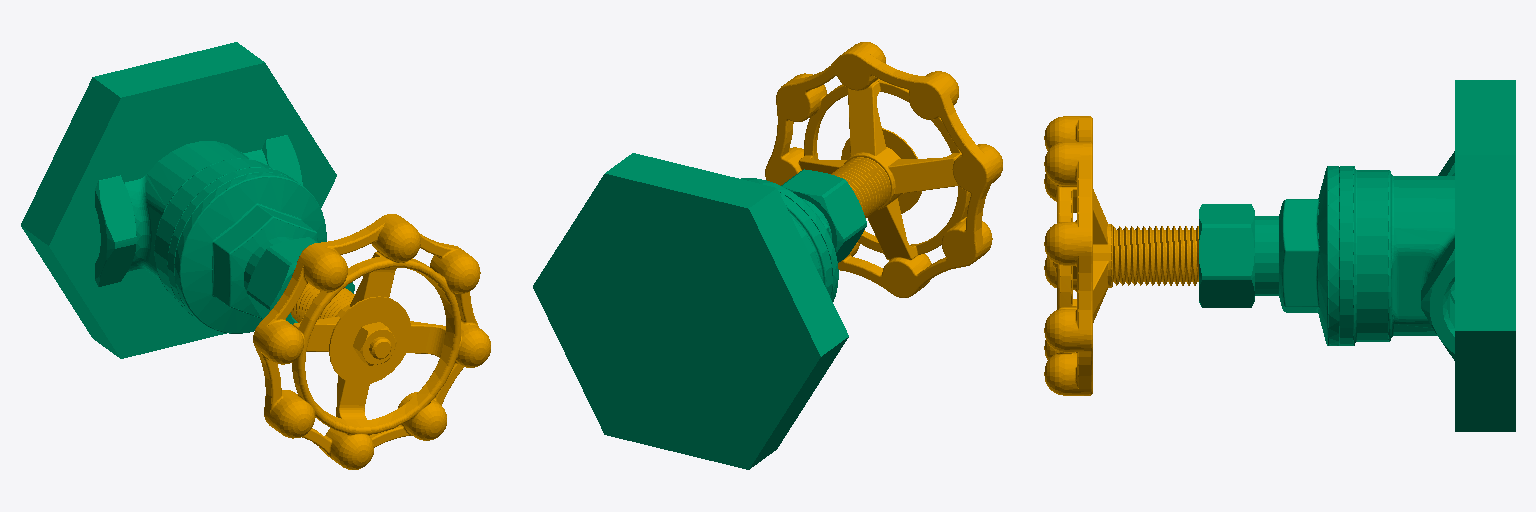
URDF robot description (Small_Valve):
<?xml version='1.0' encoding='utf-8'?>
<robot name="Small_Valve">
  <joint name="PrismaticJoint" type="prismatic">
    <origin xyz="-0. -0. 0." rpy="-0.000259 0. 0. " />
    <parent link="pivot_registro" />
    <child link="eixo_trans" />
    <axis xyz="0. 0. 1." />
    <limit lower="-0.02" upper="0.015" effort="100.0" velocity="1.0" />
  </joint>
  <joint name="RevoluteJoint" type="continuous">
    <origin xyz="0. -0. 0." rpy="1.5707964 0. 0. " />
    <parent link="valvula_gaveta" />
    <child link="pivot_registro" />
    <axis xyz="0. 0. 1." />
  </joint>
  <link name="eixo_trans">
    <inertial><origin xyz="0.000000 0.000000 0.101700" rpy="0 0 0" /><mass value="0.0050" /><inertia ixx="1e-06" ixy="0" ixz="0" iyy="1e-06" iyz="0" izz="1e-06" /></inertial><visual>
      <origin xyz="0. 0.0000187 -0.0723285" rpy="0.000259 0. 0. " />
      <geometry>
        <mesh filename="meshes/Mesh_21.obj" scale="1. 1. 1." />
      </geometry>
    </visual>
    <visual>
      <origin xyz="0. 0.0000187 -0.0723285" rpy="-0.0002218 0.0001332 -2.6011126" />
      <geometry>
        <mesh filename="meshes/Mesh_22.obj" scale="1. 1. 1." />
      </geometry>
    </visual>
    <collision>
      <origin xyz="0. 0.0000187 -0.0723285" rpy="-0.0002218 0.0001332 -2.6011126" />
      <geometry>
        <mesh filename="meshes/Mesh_22.obj" scale="1. 1. 1." />
      </geometry>
    </collision>
  </link>
  <link name="pivot_registro">
    <inertial><origin xyz="0.000000 0.000000 0.000000" rpy="0 0 0" /><mass value="0.0050" /><inertia ixx="1e-06" ixy="0" ixz="0" iyy="1e-06" iyz="0" izz="1e-06" /></inertial><visual>
      <origin xyz="0. 0. 0." rpy="0. 0. 0." />
      <geometry>
        <mesh filename="meshes/Cylinder.obj" scale="1. 1. 1." />
      </geometry>
    </visual>
    <collision>
      <origin xyz="0. 0. 0." rpy="0. 0. 0." />
      <geometry>
        <mesh filename="meshes/Cylinder.obj" scale="1. 1. 1." />
      </geometry>
    </collision>
  </link>
  <link name="valvula_gaveta">
    <inertial><origin xyz="0.000000 0.000000 0.034500" rpy="0 0 0" /><mass value="0.5310" /><inertia ixx="0.000533771" ixy="0" ixz="0" iyy="0.000619637" iyz="0" izz="0.000601061" /></inertial><visual>
      <origin xyz="0. 0.0740621 0. " rpy="1.5707964 0. 0. " />
      <geometry>
        <mesh filename="meshes/Mesh_1.obj" scale="1. 1. 1." />
      </geometry>
    </visual>
    <collision>
      <origin xyz="0. 0.0740621 0. " rpy="1.5707964 0. 0. " />
      <geometry>
        <mesh filename="meshes/Mesh_1.obj" scale="1. 1. 1." />
      </geometry>
    </collision>
  </link>
</robot>

--- Facts derived from the render (not from the file) ---
Views: 3 orthographic renders of the robot side by side, from view 1: azimuth 30°, elevation 25°; view 2: azimuth 150°, elevation 25°; view 3: azimuth 270°, elevation 25°.
Model Small_Valve with 3 links and 2 joints (1 continuous, 1 prismatic), rooted at valvula_gaveta, posed every joint at zero.
Visible links, largest first — view 1: valvula_gaveta, eixo_trans; view 2: valvula_gaveta, eixo_trans; view 3: valvula_gaveta, eixo_trans.
Link boxes in pixels (box(x1,y1,x2,y2)): valvula_gaveta: box(21, 42, 354, 358); eixo_trans: box(253, 214, 490, 469); valvula_gaveta: box(533, 153, 866, 469); eixo_trans: box(765, 42, 1002, 297); valvula_gaveta: box(1199, 80, 1515, 431); eixo_trans: box(1044, 116, 1198, 395).
Bounding box of the posed robot: 0.0881 × 0.1174 × 0.0763 m (x, y, z).
Meshes: 4 distinct files referenced, 4 mesh visuals loaded (4 OBJ).
